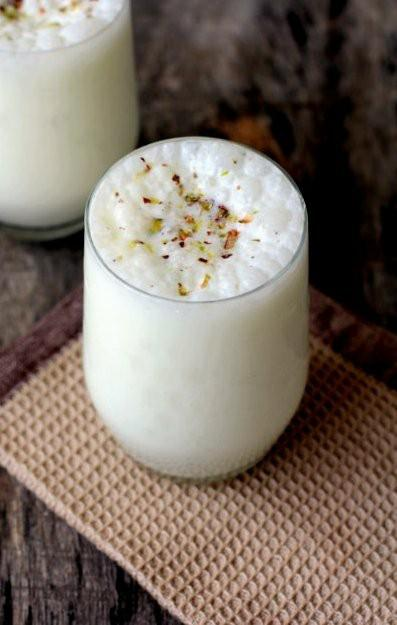Lassi: (82, 136, 310, 475), (0, 0, 139, 225)
